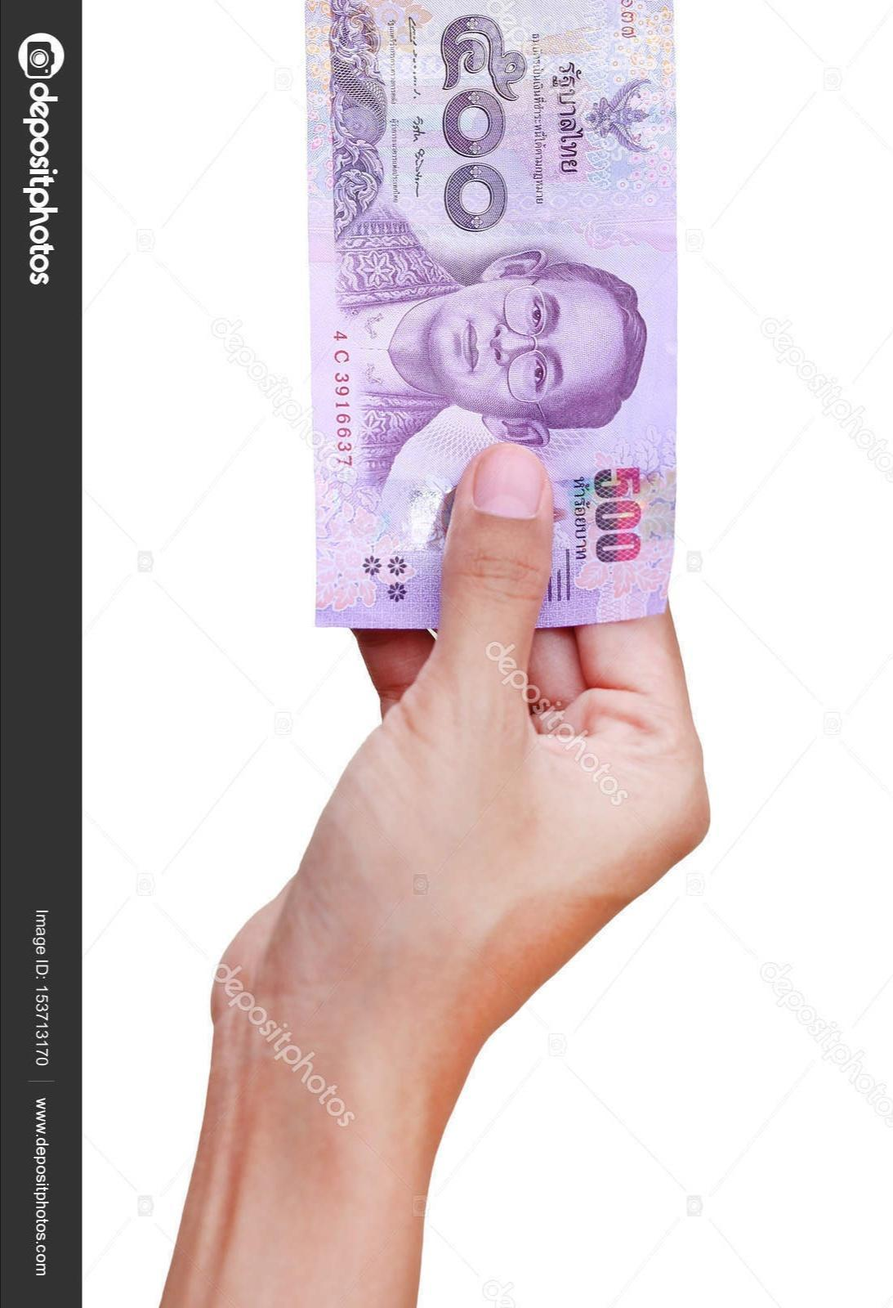500BahtTai: (306, 13, 678, 624)
